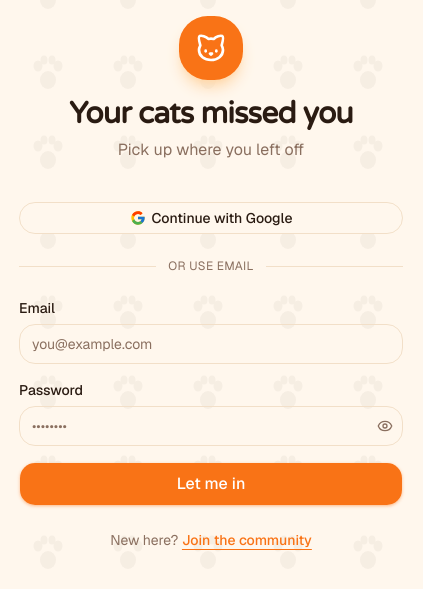
Test: LoginPage › shows validation error for invalid email
Submit with only password filled - email is empty
Step 1. Type "secret123" into the password field labelled "Password" → point(211, 426), box [19, 406, 403, 446]
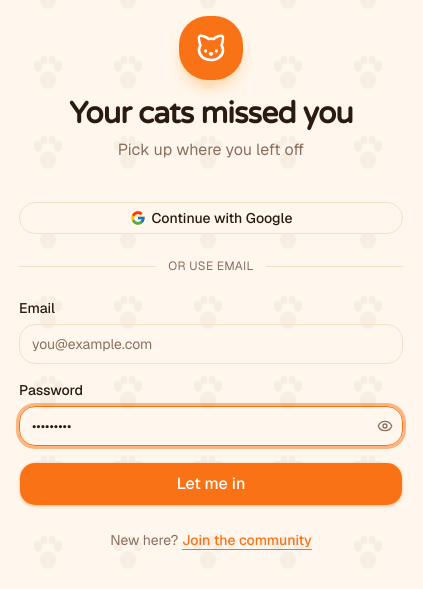
Step 2. Click the button "Let me in" → point(211, 484), box [19, 462, 403, 506]
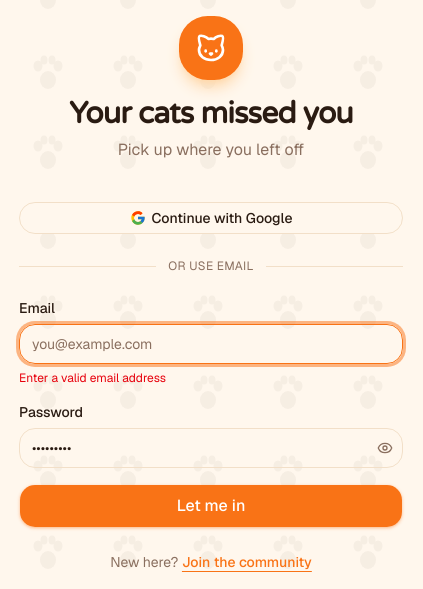
Now the text "Enter a valid email address" is shown, box [19, 370, 166, 386]
